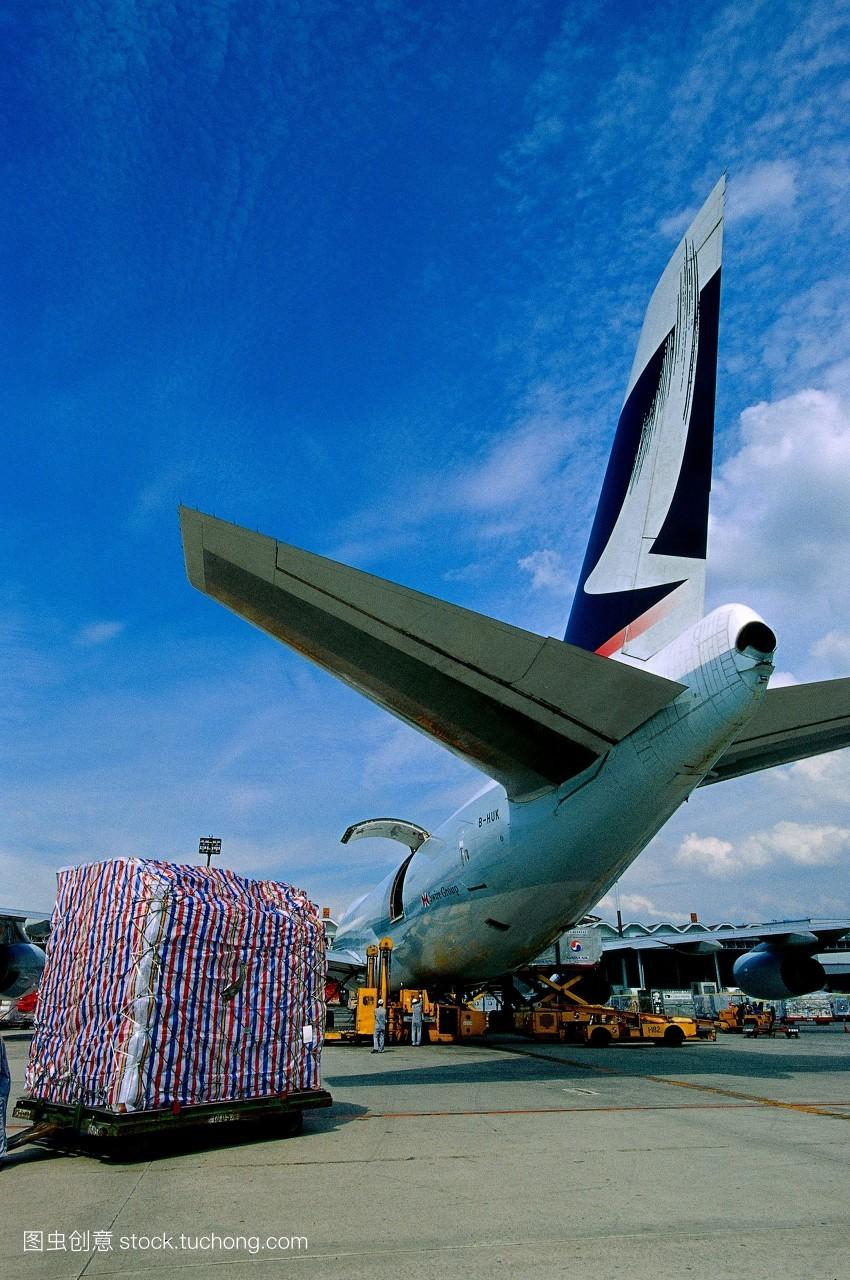airplane: (149, 171, 850, 1003)
